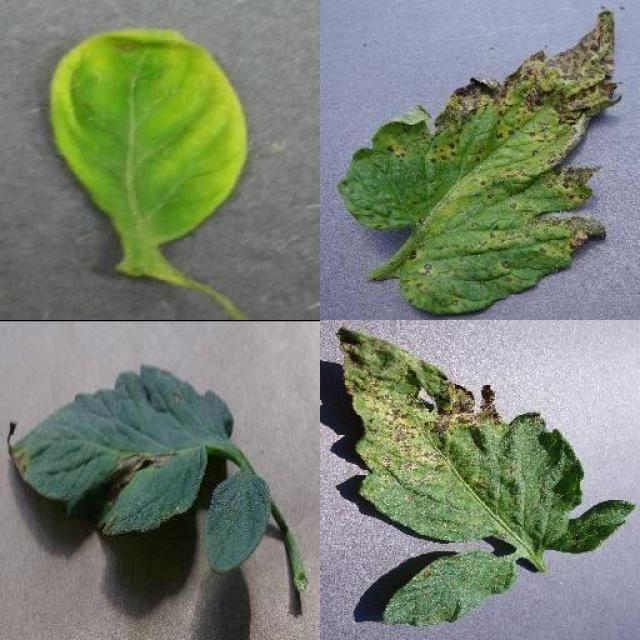Early Blight: (9, 362, 231, 536)
Healthy: (204, 471, 274, 571)
Septoria: (338, 10, 624, 314), (336, 325, 636, 555)
